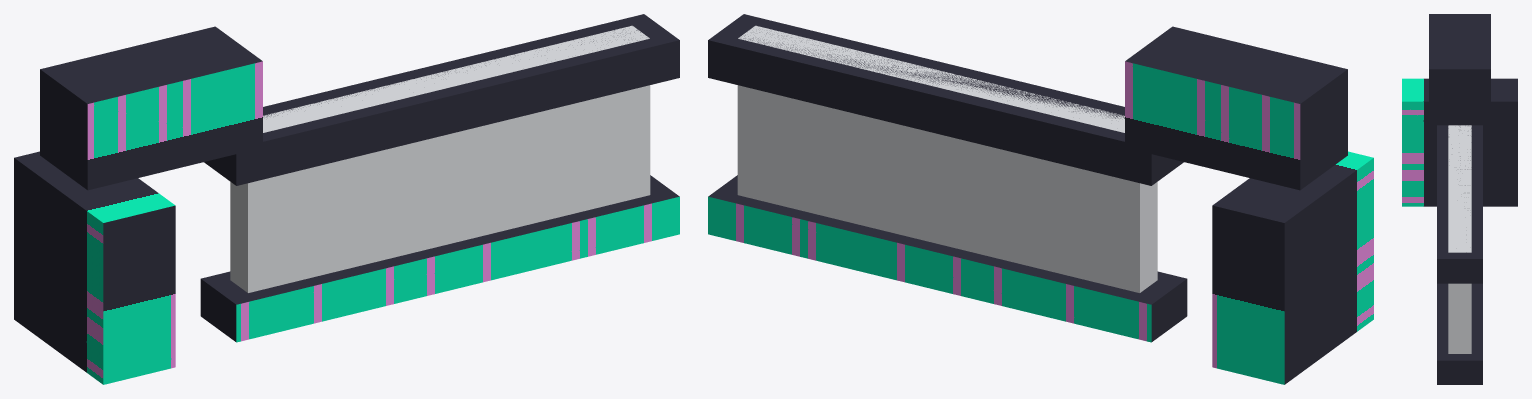
Rendered from nav_blade.glb.
3 views of the same model, side by side, from view 1: azimuth 30°, elevation 25°; view 2: azimuth 150°, elevation 25°; view 3: azimuth 270°, elevation 25° (orthographic). The views are drawn at different scales.
Parts seen in each view (by area): view 1: nav_blade; view 2: nav_blade; view 3: nav_blade.
Part boxes in pixels (left/top/right/bottom): nav_blade: left=14, top=14, right=679, bottom=384; nav_blade: left=708, top=14, right=1373, bottom=384; nav_blade: left=1402, top=14, right=1517, bottom=384.
Bounding box in the file's own units: 1.17 × 0.52 × 0.3.
Materials: 5 (4 with a texture image).
